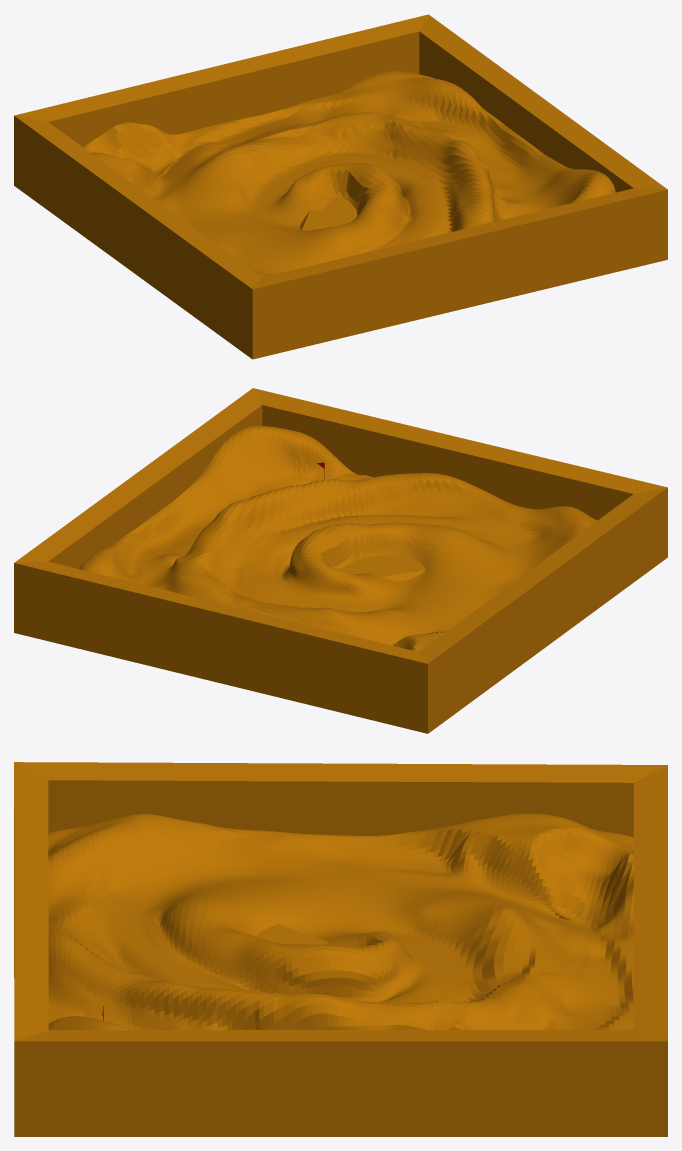
File: level_18.glb
The picture shows the model from 3 angles, top to bottom: view 1: azimuth 30°, elevation 25°; view 2: azimuth 150°, elevation 25°; view 3: azimuth 270°, elevation 25°; orthographic projection. The views are drawn at different scales.
Visible parts, largest first — view 1: green; view 2: green; view 3: green.
Boxes of the visible parts, left/top/right/bottom form: green: left=14, top=14, right=667, bottom=359; green: left=14, top=388, right=667, bottom=733; green: left=14, top=762, right=667, bottom=1136.
Size of the model in its own units: 14.35 by 2.41 by 14.33.
